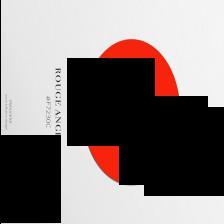red: (82, 39, 179, 185)
